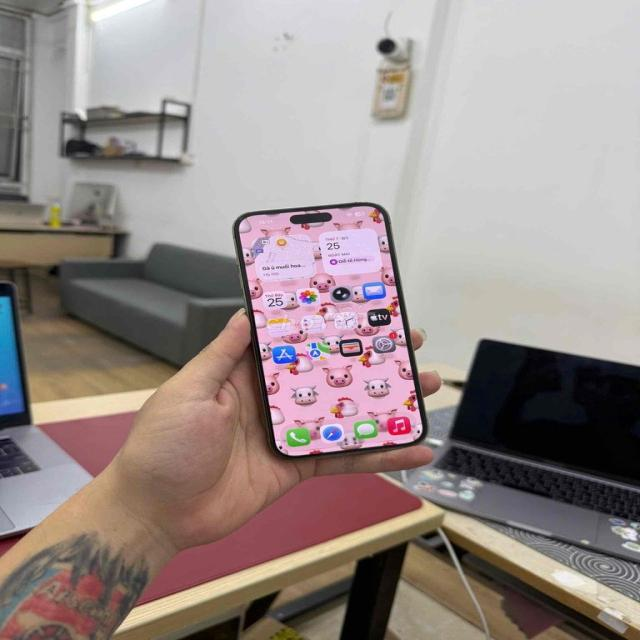gen_14: (226, 201, 435, 454)
